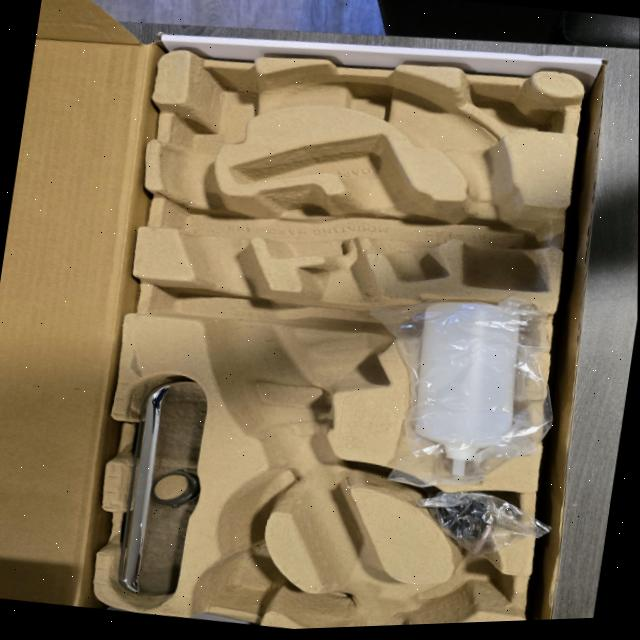1m: (159, 65, 549, 627)
2m: (234, 135, 444, 282)
3: (414, 301, 520, 477)
4: (120, 382, 206, 597)
5m: (213, 552, 276, 609)
6m: (409, 560, 514, 623)
7: (412, 490, 553, 558)
